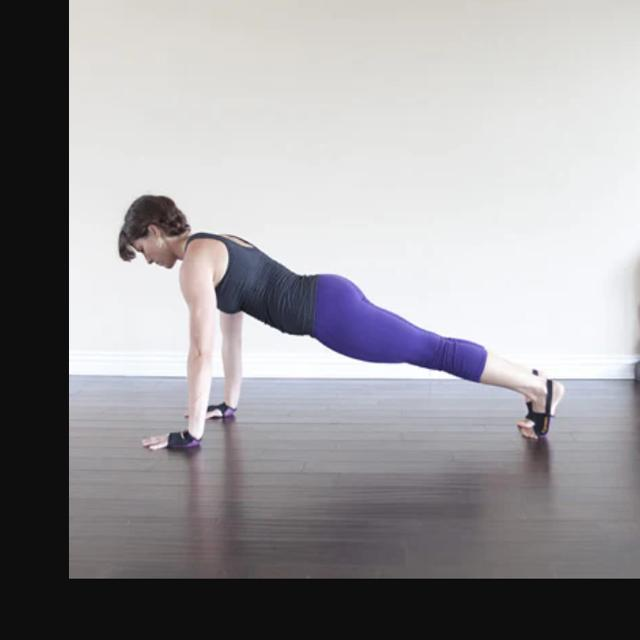Plank_Pose: (116, 189, 569, 465)
